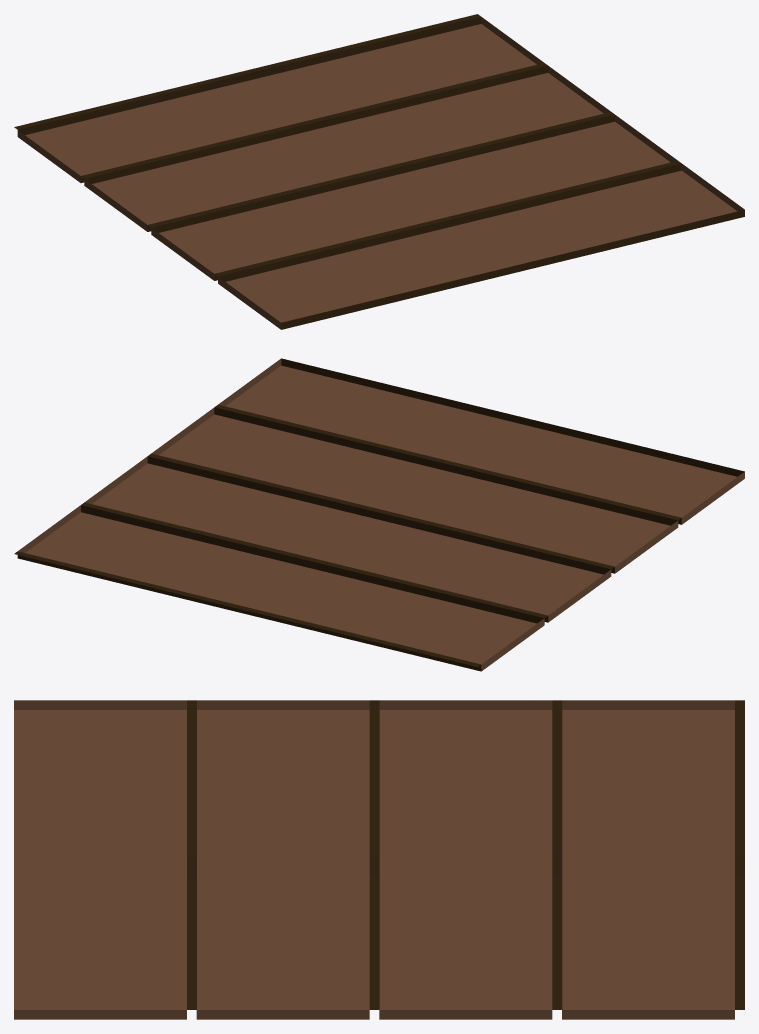
Rendered from Celing.fbx.
The picture shows the model from 3 angles, top to bottom: view 1: azimuth 30°, elevation 25°; view 2: azimuth 150°, elevation 25°; view 3: azimuth 270°, elevation 25°; orthographic projection. The views are drawn at different scales.
Parts seen in each view (by area): view 1: Cube.080; view 2: Cube.080; view 3: Cube.080.
Boxes of the visible parts, x1,y1,x2,y2 form: Cube.080: (14,14,744,329); Cube.080: (14,358,744,671); Cube.080: (14,700,744,1019).
Bounding box in the file's own units: 226 × 3.35 × 226.
Materials: 1 (1 with a texture image).
